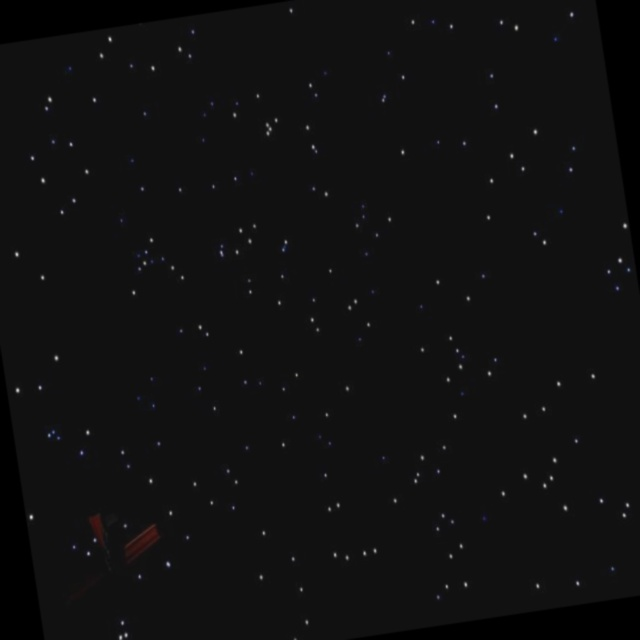satellite: (48, 490, 173, 622)
